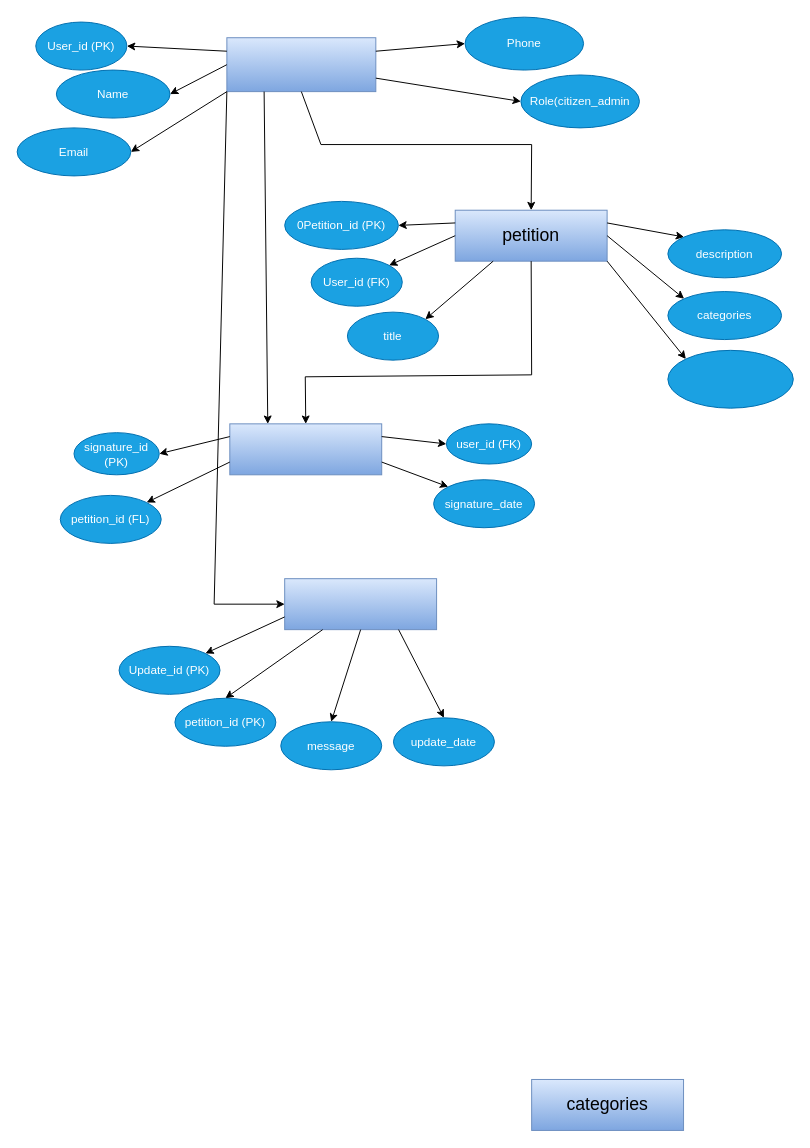
Image size: 810x1148. Some labels were removed from this diagram. The centre of each missing label's shape, as x and y in pixels:
"Signature" goes at point (305, 449).
"Status((pending, approved,rejected)" goes at point (730, 378).
"Updates" goes at point (360, 604).
"User" goes at point (301, 64).
